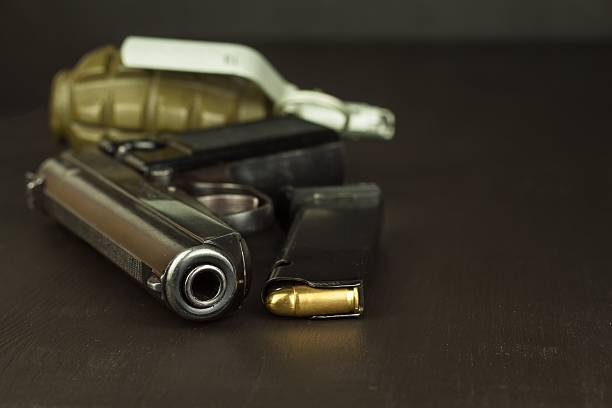e1: (48, 35, 404, 150)
